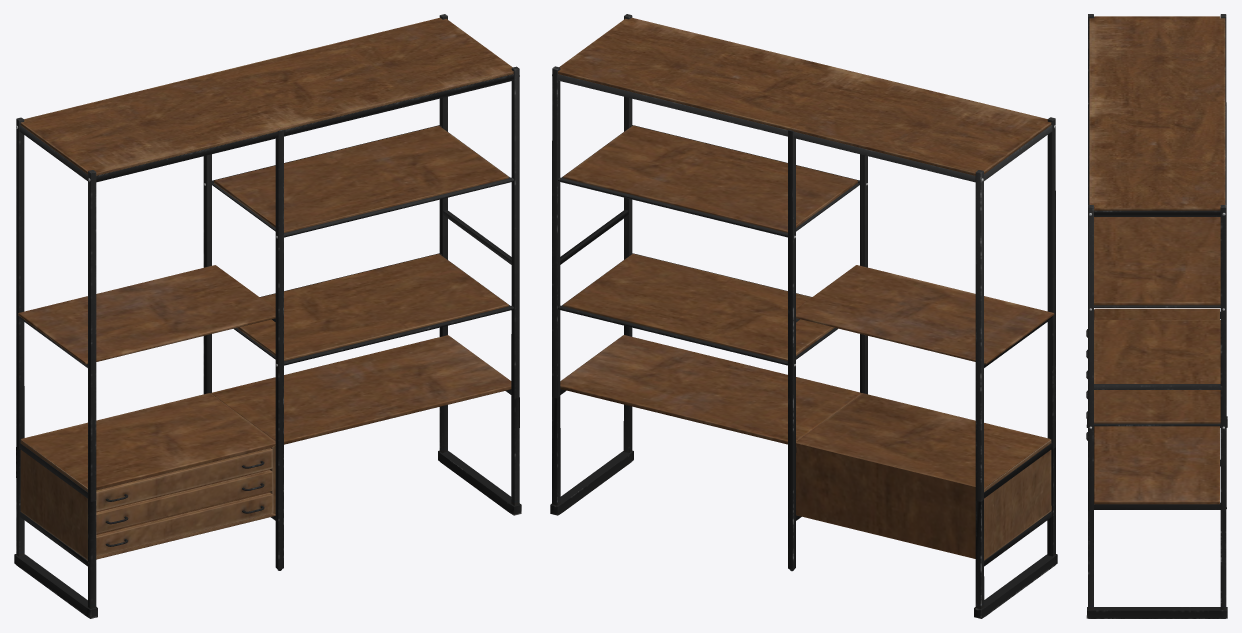
Rendered from steel_frame_shelves_03.gltf.
3 renders of one model, left to right at view 1: azimuth 30°, elevation 25°; view 2: azimuth 150°, elevation 25°; view 3: azimuth 270°, elevation 25°, orthographic. The views are drawn at different scales.
Parts seen in each view (by area): view 1: steel_frame_shelves_03; view 2: steel_frame_shelves_03; view 3: steel_frame_shelves_03.
Part boxes in pixels (left/top/right/bottom): steel_frame_shelves_03: left=14, top=14, right=521, bottom=618; steel_frame_shelves_03: left=550, top=14, right=1057, bottom=618; steel_frame_shelves_03: left=1086, top=14, right=1227, bottom=618.
Bounding box in the file's own units: 2.35 × 2.31 × 0.7212.
1 material, 1 textured.
